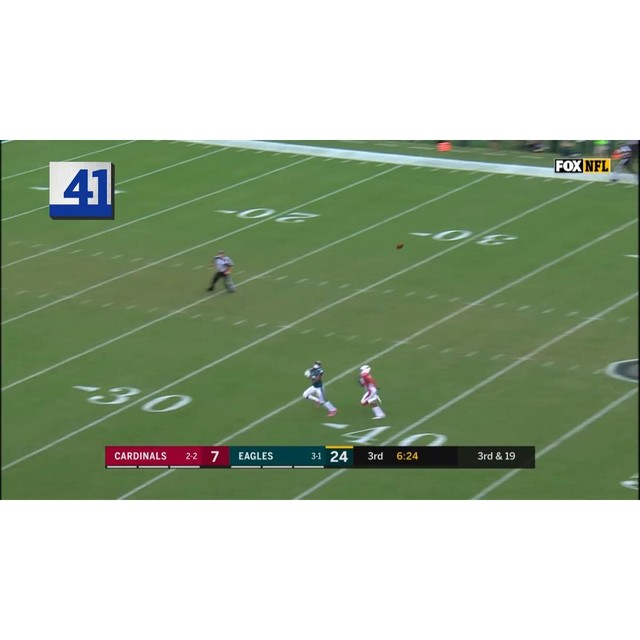american-football-player: (302, 360, 338, 416), (358, 365, 388, 419)
referee: (206, 248, 237, 294)
